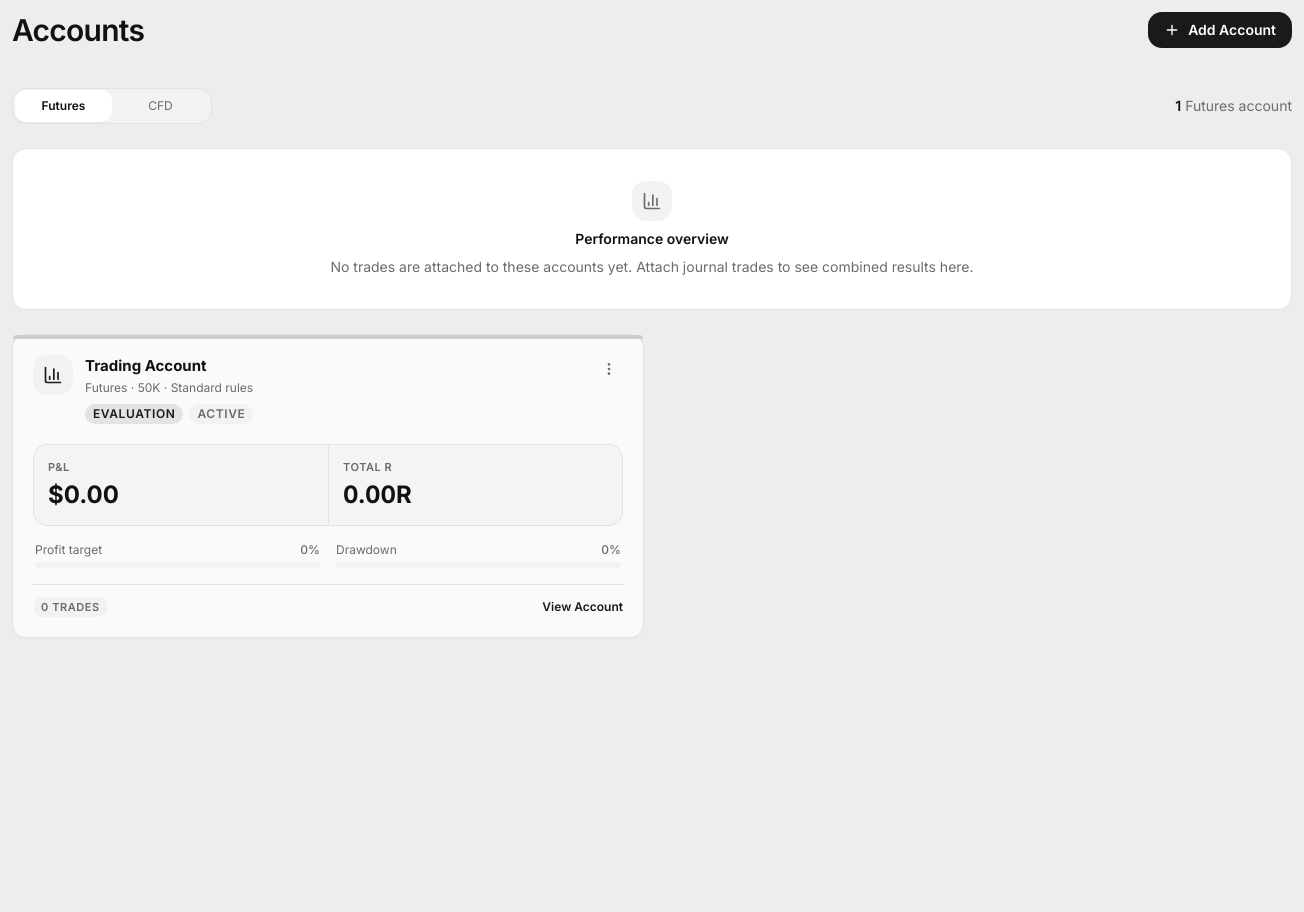
Test case: AccountsPage › shows undo toast when delete is requested
Click the button titled "More actions for Trading Account": (609, 369) [595, 355, 623, 383]
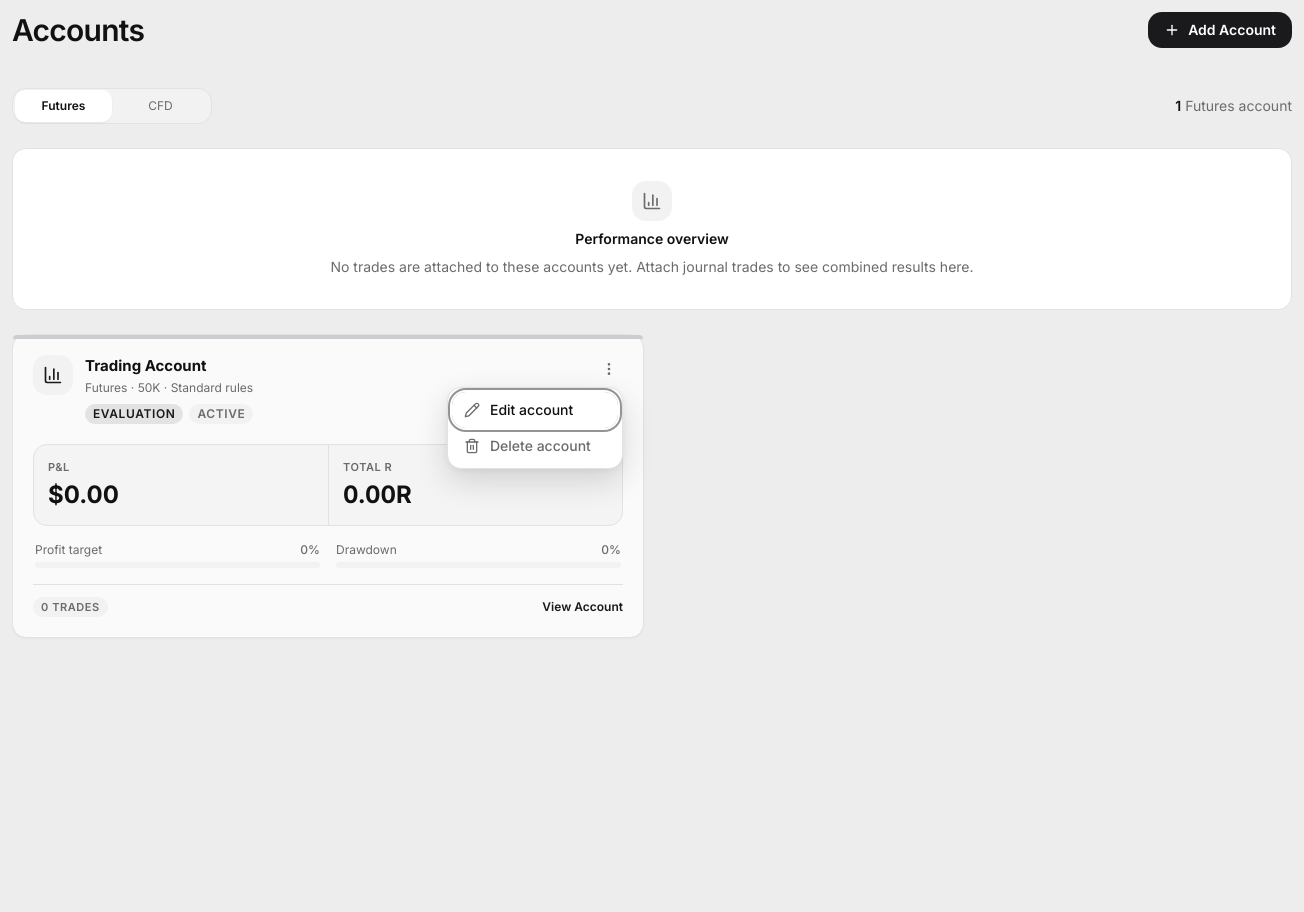
Check: the menu item "Delete account" is shown
Click the menu item "Delete account": (535, 446) [452, 428, 618, 464]
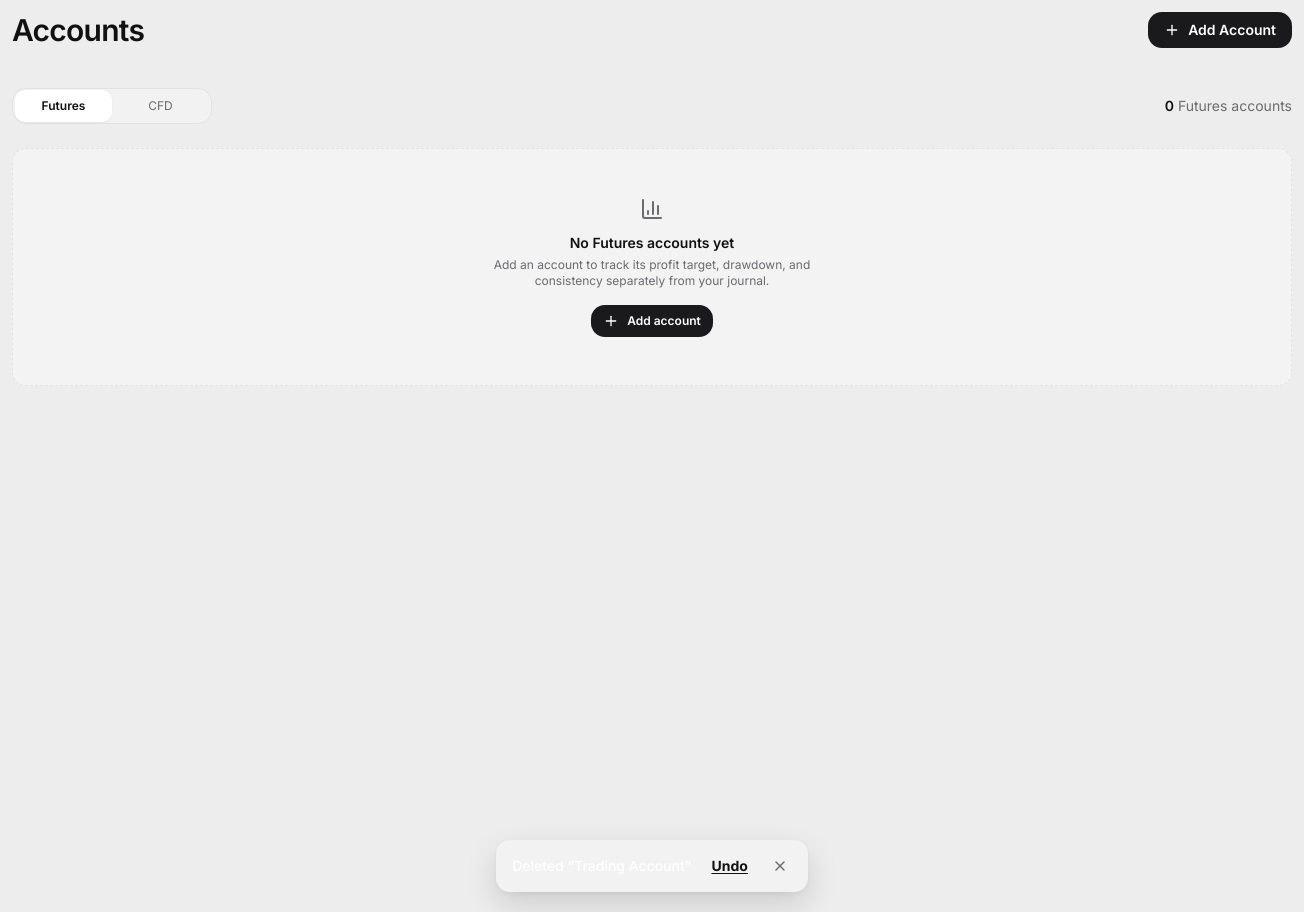
Check: the button "Undo" is shown, box [704, 852, 756, 880]
